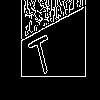T: (25, 25, 56, 79)
